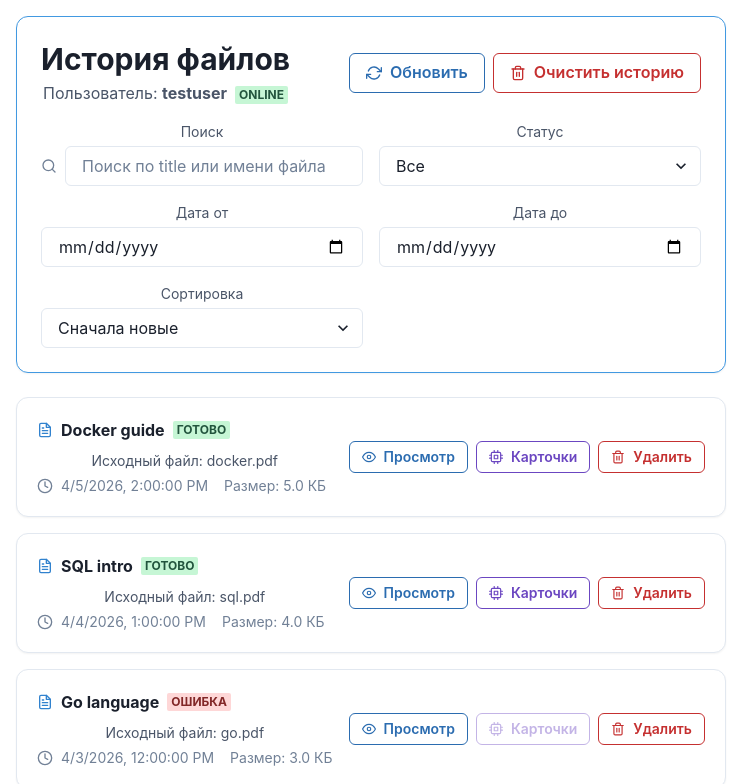
Test case: Profile page › filters uploads by status
Expected: the text "Docker guide" is shown, [61,418,165,442]
Select "Ошибка" in the dropdown showing "Все" below "Статус" at coordinates (540, 166), box [379,146,701,186]
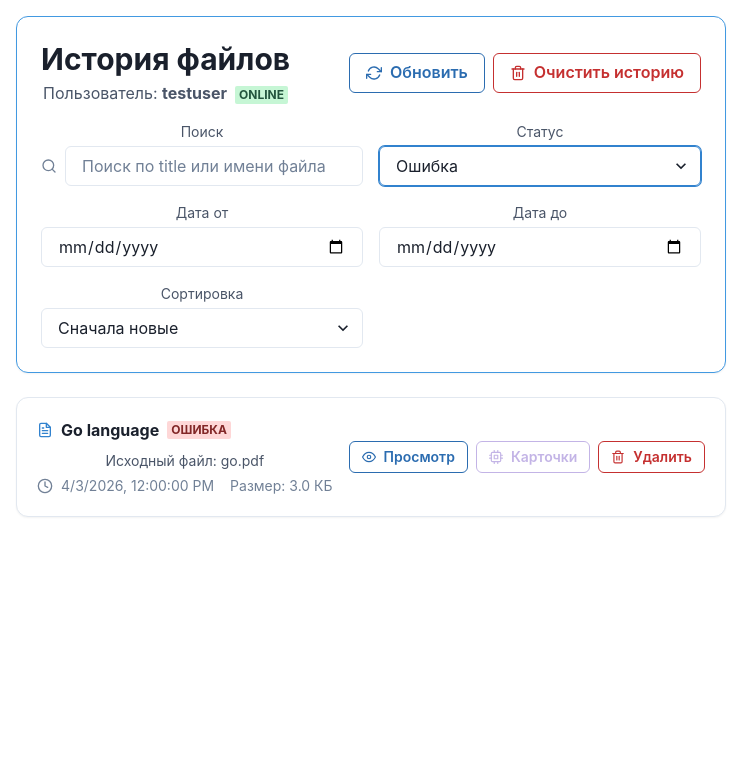
Expected: the text "Go language" is shown, [61,418,159,442]
Result: the text "Docker guide" is gone
